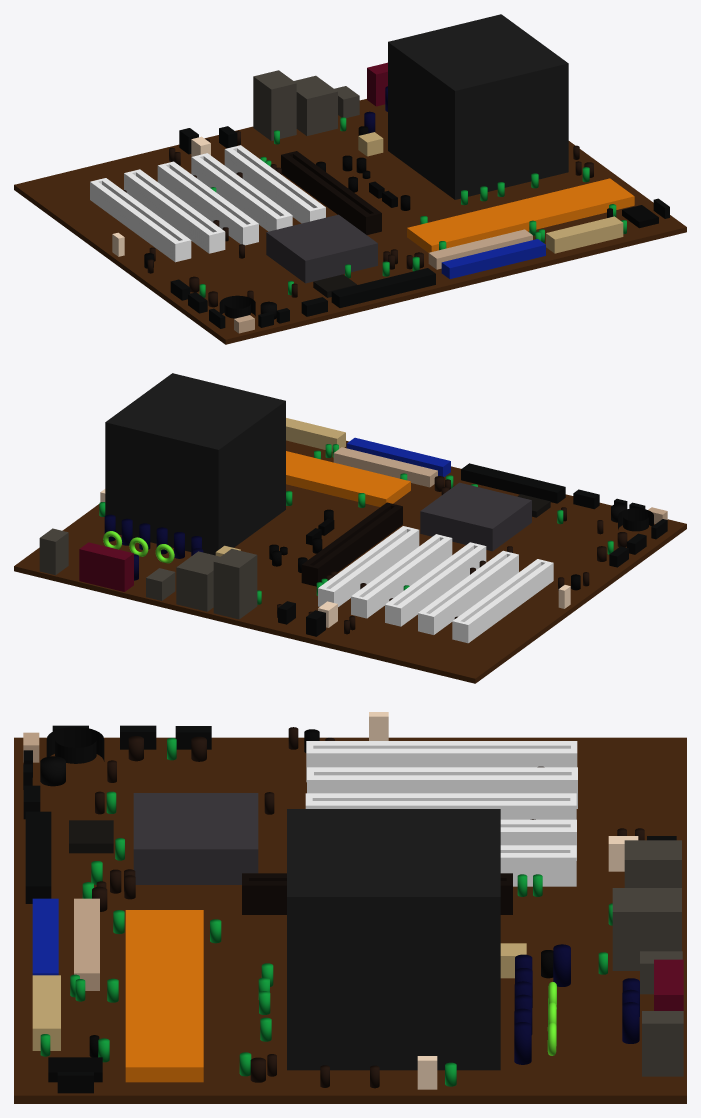
The model's file is model2_pcb.obj.
3 renders of one model, top to bottom at view 1: azimuth 30°, elevation 25°; view 2: azimuth 150°, elevation 25°; view 3: azimuth 270°, elevation 25°, orthographic. The views are drawn at different scales.
Size of the model in its own units: 0.3736 by 0.0882 by 0.2968.
